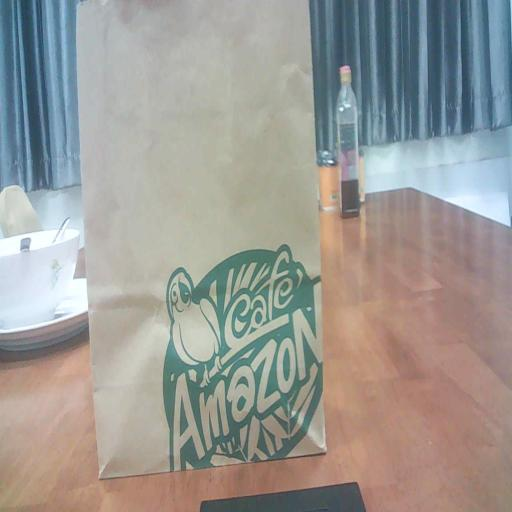bag: (70, 0, 333, 473)
